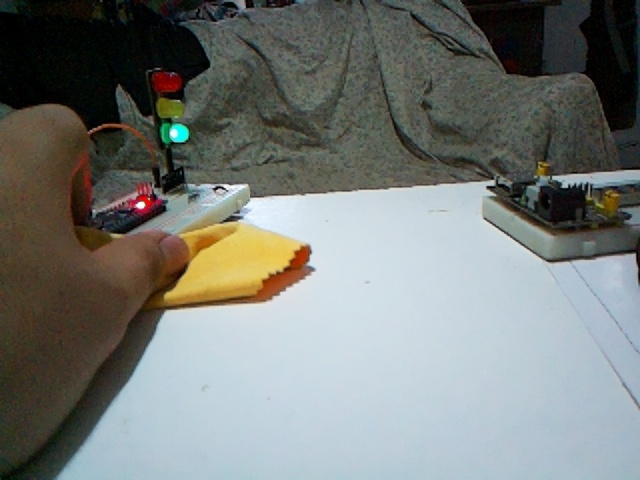traffic_light_green: (145, 67, 190, 191)
